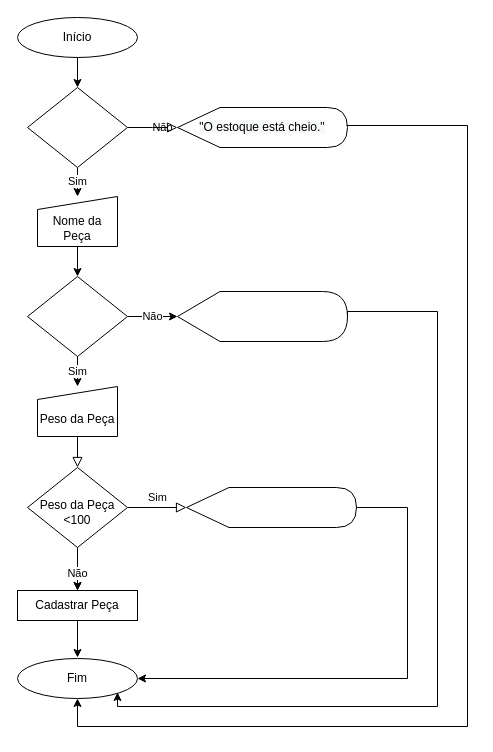
The diagram is 493 pixels wide and 752 high, and some of its shapes have lost their labels. The shapes that lost their labels are listed below. From the top down, each one's centre as x and y in pixels, then its label:
(x=77, y=127): Peças em estoque <10
(x=77, y=316): nº de caracteres <4
(x=262, y=316): "O nome da peça deve conter ao menos 4 caracteres."
(x=271, y=507): "A peça precisa ter no mínimo 100g."
